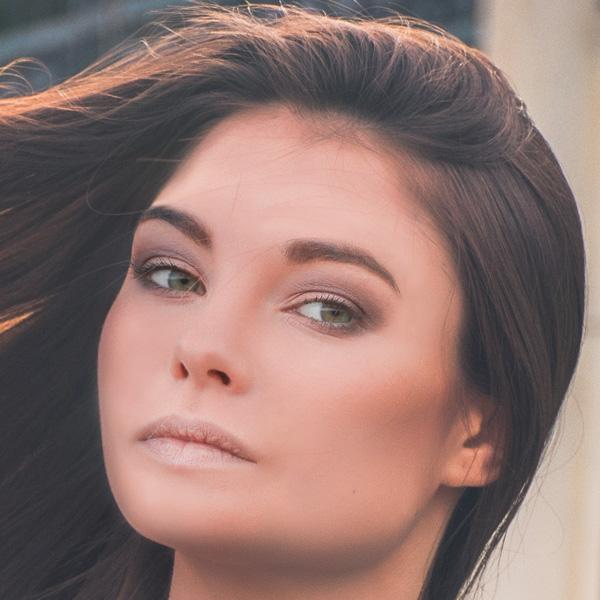Eyes: (269, 272, 374, 345), (128, 239, 212, 309)
